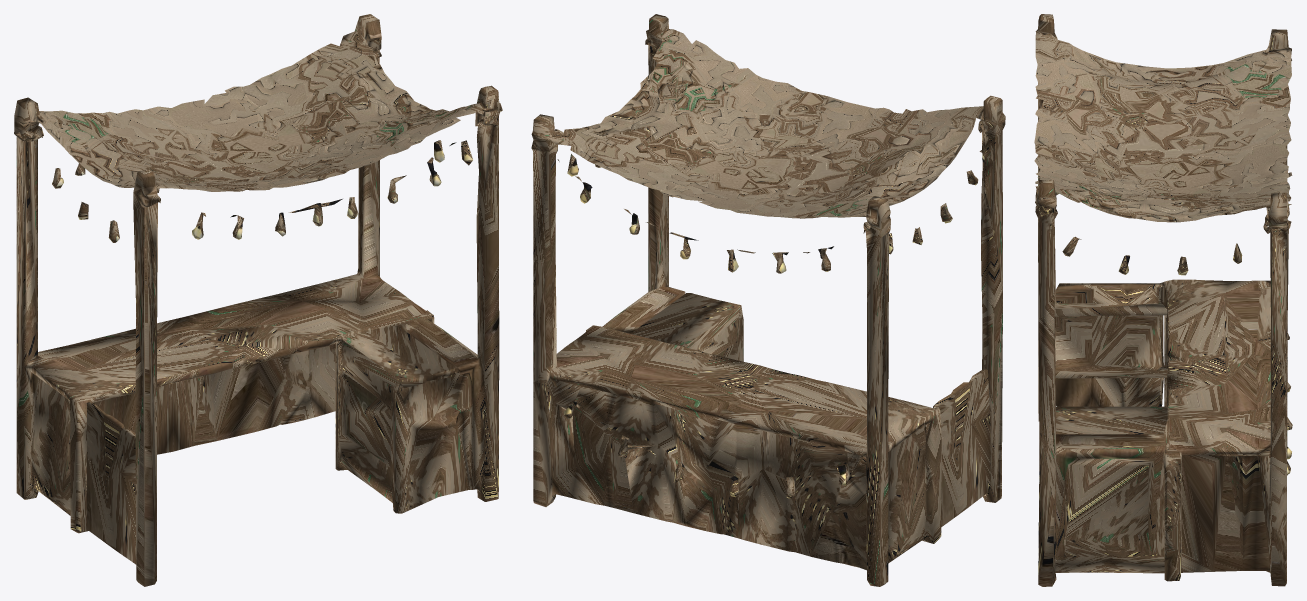
File: stall_lod1.glb
The picture shows the model from 3 angles, left to right: view 1: azimuth 30°, elevation 25°; view 2: azimuth 150°, elevation 25°; view 3: azimuth 270°, elevation 25°; orthographic projection. The views are drawn at different scales.
Bounding box in the file's own units: 1.76 × 1.9 × 1.1.
Materials: 1 (1 with a texture image).
